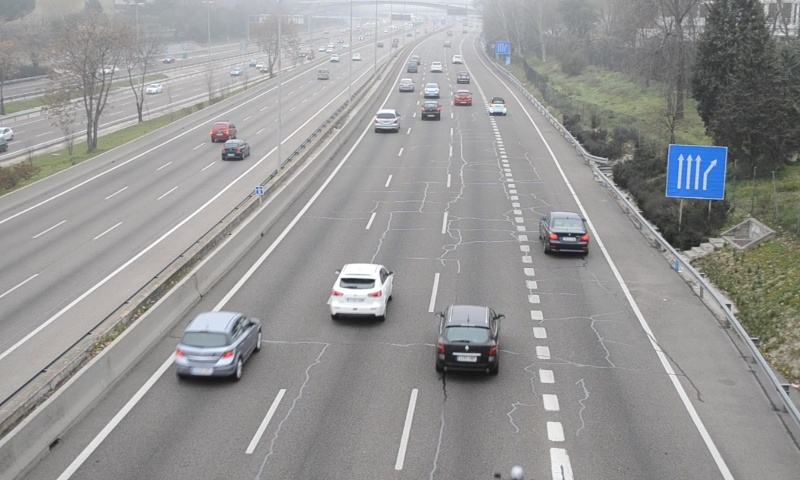car: (171, 313, 260, 380), (434, 304, 500, 376), (328, 263, 395, 320), (539, 211, 592, 258), (373, 109, 400, 134), (421, 100, 441, 121), (488, 96, 507, 116), (423, 82, 440, 100), (454, 90, 473, 106), (398, 78, 415, 94)
